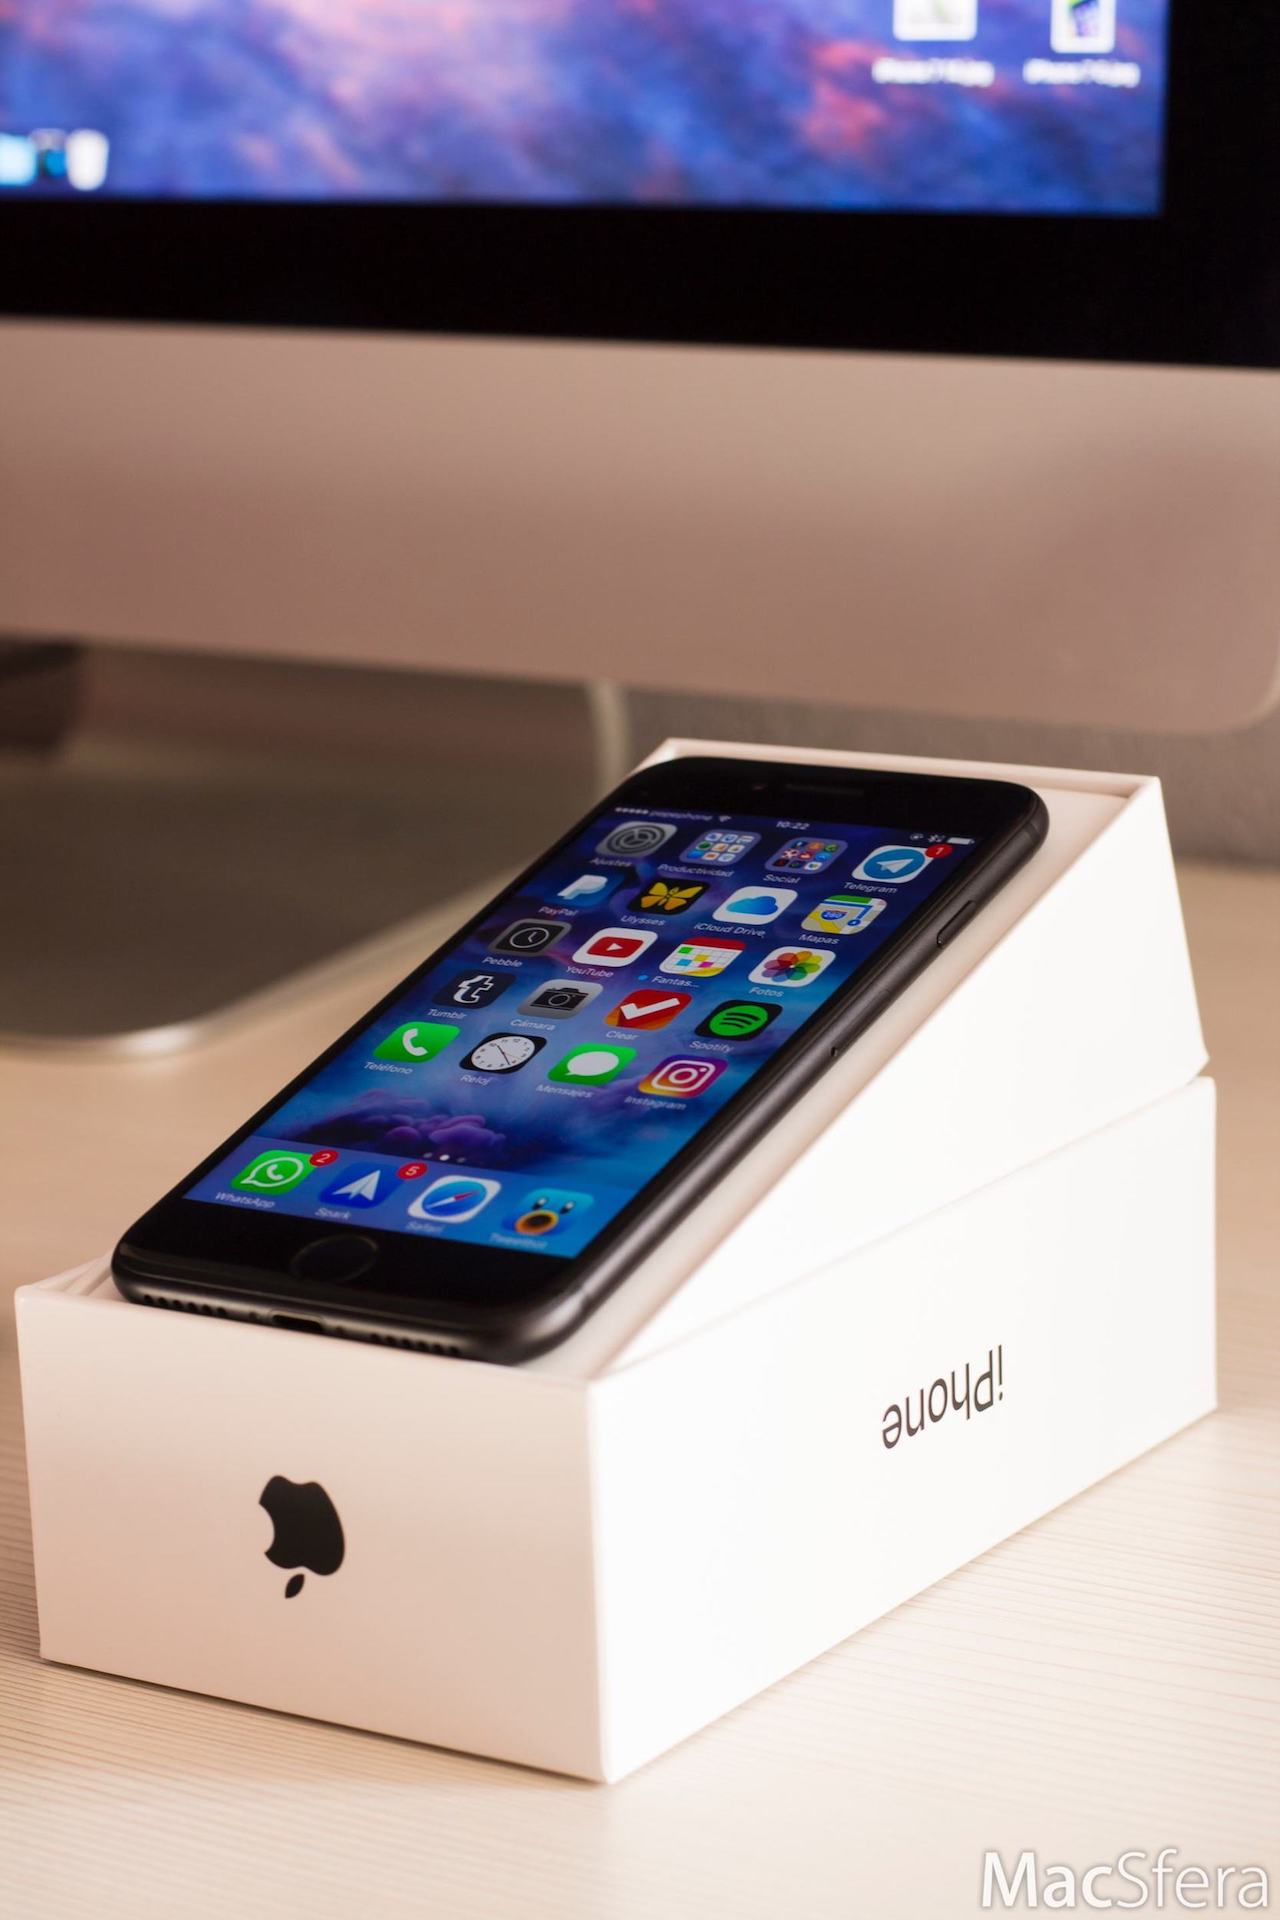smartphone: (109, 753, 1051, 1371)
